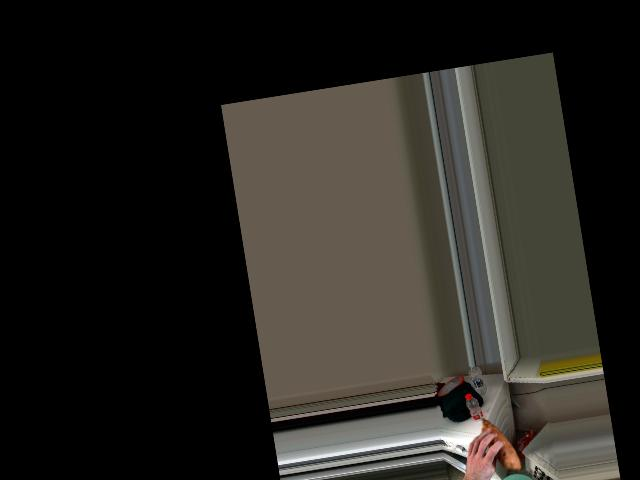sweet_potato: (471, 417, 518, 466)
